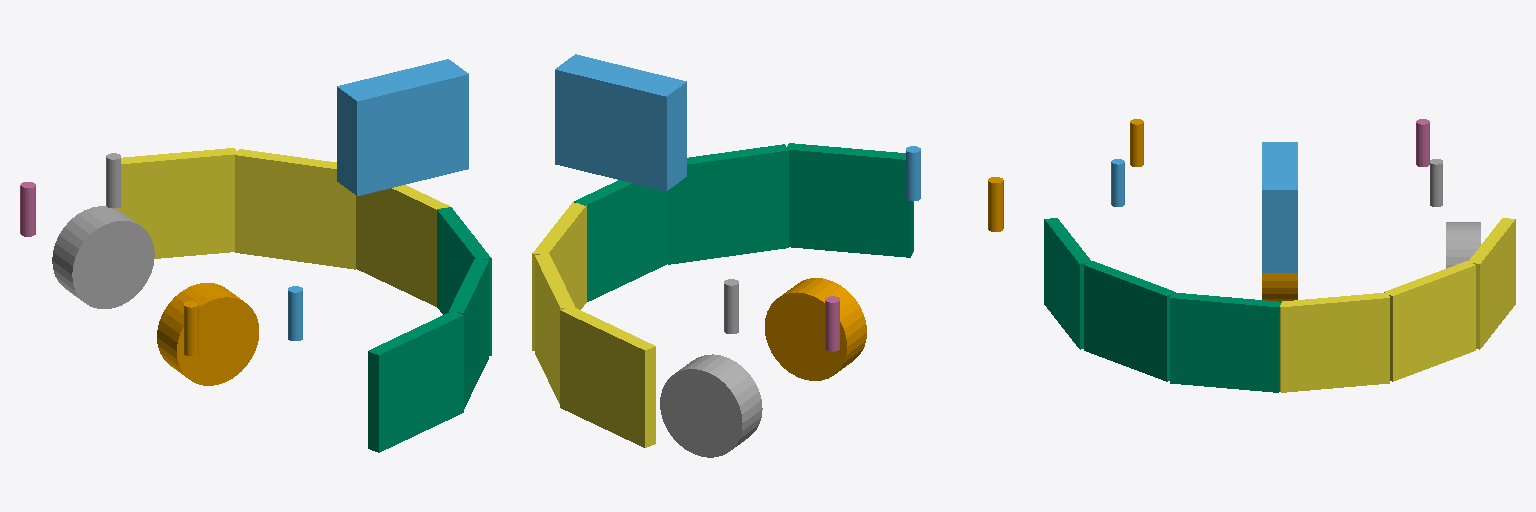
robot.urdf — [local-path]/ROS2-Project/src/my_create_simulation/resource/MyCr:
<?xml version="1.0"?>
<robot name="/home/jordenhuang/ROS2-Project/src/my_create_simulation/resource/MyCreate_kinect_.urdf" xmlns:xacro="http://ros.org/wiki/xacro">
  <webots>
    <plugin type="my_create_simulation.my_create_driver_kinect.MyCreateDriverKinect"/>
  </webots>
  <!-- ======================= BASE LINK ======================= -->
  <link name="base_link"/>

  <!-- ======================= KINECT CAMERA ======================= -->
  <!-- This is the physical body of the Kinect camera -->
  <link name="Kinect">
    <visual>
      <origin xyz="0 0 0" rpy="0 0 0"/>
      <geometry>
        <box size="0.084 0.027 0.068"/>
      </geometry>
    </visual>
    <collision>
      <origin xyz="0 0 0" rpy="0 0 0"/>
      <geometry>
        <box size="0.084 0.027 0.068"/>
      </geometry>
    </collision>
  </link>

  <!-- This joint mounts the camera body onto the robot's base link -->
  <joint name="base_to_kinect_joint" type="fixed">
    <parent link="base_link"/>
    <child link="Kinect"/>
    <!-- Position the camera 14cm forward and 10cm up from the base_link origin -->
    <origin xyz="0.14 0 0.10" rpy="0 0 0"/>
    <!-- <origin xyz="0.14 0 0.10" rpy="0 0.261799 0"/> -->
    <!-- <origin xyz="0.14 0 0.10" rpy="0 0.174532 0"/> -->
  </joint>


  <!-- CORRECTED: RGB Optical Frame -->
  <!-- The link for the optical center of the RGB camera -->
  <link name="camera_rgb_frame"/>

  <!-- This joint connects the optical frame to the camera BODY -->
  <joint name="kinect_to_camera_rgb_joint" type="fixed">
    <parent link="Kinect"/> <!-- CORRECTED: Parent is now the camera body -->
    <child link="camera_rgb_frame"/>
    <!-- The origin is now relative to the Kinect link.
         The standard ROS optical rotation is applied here. -->
    <!-- <origin xyz="0 0 0" rpy="0.0 -0.261799 0.0"/> -->
    <origin xyz="0 0 0" rpy="0 0 0"/>
  </joint>

  <!-- camera rgb optical frame -->
  <link name="camera_rgb_optical_frame">
  </link>
  <joint name="camera_rgb_to_camera_rgb_optical_joint" type="fixed">
    <parent link="camera_rgb_frame"/>
    <child link="camera_rgb_optical_frame"/>
    <origin xyz="0 0 0" rpy="-1.570796 0 -1.570796"/>
  </joint>


  <!-- CORRECTED: Depth Optical Frame -->
  <!-- The link for the optical center of the Depth camera -->
  <link name="camera_depth_frame"/>

  <!-- This joint connects the depth optical frame to the camera BODY -->
  <joint name="kinect_to_camera_depth_joint" type="fixed">
    <parent link="Kinect"/> <!-- CORRECTED: Parent is now the camera body -->
    <child link="camera_depth_frame"/>
    <!-- Assume the depth sensor is 2.5cm to the left of the RGB sensor (relative to Kinect body) -->
    <!-- <origin xyz="0 -0.025 0" rpy="-1.570796 0 -1.570796"/> -->
    <origin xyz="0 0 0" rpy="0 0 0"/>
    <!-- <origin xyz="0 0 0" rpy="0.0 -0.261799 0.0"/> -->
  </joint>

  <!-- camera rgb optical frame -->
  <link name="camera_depth_optical_frame">
  </link>
  <joint name="camera_depth_to_camera_depth_optical_joint" type="fixed">
    <parent link="camera_depth_frame"/>
    <child link="camera_depth_optical_frame"/>
    <origin xyz="0 0 0" rpy="-1.570796 0 -1.570796"/>
  </joint>
  <!-- End camera thingy -->

  <link name="stand_left_back_1">
    <visual>
      <geometry>
        <cylinder radius="0.005" length="0.035"/>
      </geometry>
    </visual>
    <collision>
      <geometry>
        <cylinder radius="0.005" length="0.035"/>
      </geometry>
    </collision>
  </link>
  <joint name="base_link_stand_left_back_1_joint" type="fixed">
    <parent link="base_link"/>
    <child link="stand_left_back_1"/>
    <origin xyz="-0.08 0.106 0.05" rpy="0 0 0"/>
  </joint>
  <link name="stand_left_front_1">
    <visual>
      <geometry>
        <cylinder radius="0.005" length="0.035"/>
      </geometry>
    </visual>
    <collision>
      <geometry>
        <cylinder radius="0.005" length="0.035"/>
      </geometry>
    </collision>
  </link>
  <joint name="base_link_stand_left_front_1_joint" type="fixed">
    <parent link="base_link"/>
    <child link="stand_left_front_1"/>
    <origin xyz="-0.01 0.116 0.05" rpy="0 0 0"/>
  </joint>
  <link name="stand_right_back_1">
    <visual>
      <geometry>
        <cylinder radius="0.005" length="0.035"/>
      </geometry>
    </visual>
    <collision>
      <geometry>
        <cylinder radius="0.005" length="0.035"/>
      </geometry>
    </collision>
  </link>
  <joint name="base_link_stand_right_back_1_joint" type="fixed">
    <parent link="base_link"/>
    <child link="stand_right_back_1"/>
    <origin xyz="-0.08 -0.106 0.05" rpy="0 0 0"/>
  </joint>
  <link name="stand_right_front_1">
    <visual>
      <geometry>
        <cylinder radius="0.005" length="0.035"/>
      </geometry>
    </visual>
    <collision>
      <geometry>
        <cylinder radius="0.005" length="0.035"/>
      </geometry>
    </collision>
  </link>
  <joint name="base_link_stand_right_front_1_joint" type="fixed">
    <parent link="base_link"/>
    <child link="stand_right_front_1"/>
    <origin xyz="-0.01 -0.12 0.05" rpy="0 0 0"/>
  </joint>
  <link name="plate_1">
  </link>
  <joint name="base_link_plate_1_joint" type="fixed">
    <parent link="base_link"/>
    <child link="plate_1"/>
    <origin xyz="0 0 0.07" rpy="0 0 0"/>
  </joint>
  <link name="cliff_left">
  </link>
  <joint name="base_link_cliff_left_joint" type="fixed">
    <parent link="base_link"/>
    <child link="cliff_left"/>
    <origin xyz="0.07 0.15 0" rpy="-1.876967 1.570787 1.264616"/>
  </joint>
  <link name="cliff_front_left">
  </link>
  <joint name="base_link_cliff_front_left_joint" type="fixed">
    <parent link="base_link"/>
    <child link="cliff_front_left"/>
    <origin xyz="0.15 0.04 0" rpy="-1.876967 1.570787 1.264616"/>
  </joint>
  <link name="cliff_front_right">
  </link>
  <joint name="base_link_cliff_front_right_joint" type="fixed">
    <parent link="base_link"/>
    <child link="cliff_front_right"/>
    <origin xyz="0.15 -0.04 0" rpy="-1.876967 1.570787 1.264616"/>
  </joint>
  <link name="cliff_right">
  </link>
  <joint name="base_link_cliff_right_joint" type="fixed">
    <parent link="base_link"/>
    <child link="cliff_right"/>
    <origin xyz="0.07 -0.15 0" rpy="-1.876967 1.570787 1.264616"/>
  </joint>
  <link name="led_step">
  </link>
  <joint name="base_link_led_step_joint" type="fixed">
    <parent link="base_link"/>
    <child link="led_step"/>
    <origin xyz="0.0189 -0.0581 0.0349" rpy="0 0 0"/>
  </joint>
  <link name="led_play">
  </link>
  <joint name="base_link_led_play_joint" type="fixed">
    <parent link="base_link"/>
    <child link="led_play"/>
    <origin xyz="0.0193 -0.0132 0.0349" rpy="0 0 0"/>
  </joint>
  <link name="led_on">
  </link>
  <joint name="base_link_led_on_joint" type="fixed">
    <parent link="base_link"/>
    <child link="led_on"/>
    <origin xyz="0.0202 0.0617 0.0349" rpy="0 0 0"/>
  </joint>
  <link name="bumper_right">
    <visual>
      <origin xyz="-0.078042 0 -0.148208" rpy="0 0.523599 0"/>
      <geometry>
        <box size="0.082811 0.07 0.01"/>
      </geometry>
    </visual>
    <collision>
      <origin xyz="-0.078042 0 -0.148208" rpy="0 0.523599 0"/>
      <geometry>
        <box size="0.082811 0.07 0.01"/>
      </geometry>
    </collision>
    <visual>
      <origin xyz="0 0 -0.1675" rpy="0 0 0"/>
      <geometry>
        <box size="0.082811 0.07 0.01"/>
      </geometry>
    </visual>
    <collision>
      <origin xyz="0 0 -0.1675" rpy="0 0 0"/>
      <geometry>
        <box size="0.082811 0.07 0.01"/>
      </geometry>
    </collision>
    <visual>
      <origin xyz="0.078042 0 -0.148208" rpy="0 -0.523599 0"/>
      <geometry>
        <box size="0.082811 0.07 0.01"/>
      </geometry>
    </visual>
    <collision>
      <origin xyz="0.078042 0 -0.148208" rpy="0 -0.523599 0"/>
      <geometry>
        <box size="0.082811 0.07 0.01"/>
      </geometry>
    </collision>
  </link>
  <joint name="base_link_bumper_right_joint" type="fixed">
    <parent link="base_link"/>
    <child link="bumper_right"/>
    <origin xyz="0 0 0" rpy="1.570792 0.000011 -2.297729"/>
  </joint>
  <link name="bumper_left">
    <visual>
      <origin xyz="-0.078042 0 -0.148208" rpy="0 0.523599 0"/>
      <geometry>
        <box size="0.082811 0.07 0.01"/>
      </geometry>
    </visual>
    <collision>
      <origin xyz="-0.078042 0 -0.148208" rpy="0 0.523599 0"/>
      <geometry>
        <box size="0.082811 0.07 0.01"/>
      </geometry>
    </collision>
    <visual>
      <origin xyz="0 0 -0.1675" rpy="0 0 0"/>
      <geometry>
        <box size="0.082811 0.07 0.01"/>
      </geometry>
    </visual>
    <collision>
      <origin xyz="0 0 -0.1675" rpy="0 0 0"/>
      <geometry>
        <box size="0.082811 0.07 0.01"/>
      </geometry>
    </collision>
    <visual>
      <origin xyz="0.078042 0 -0.148208" rpy="0 -0.523599 0"/>
      <geometry>
        <box size="0.082811 0.07 0.01"/>
      </geometry>
    </visual>
    <collision>
      <origin xyz="0.078042 0 -0.148208" rpy="0 -0.523599 0"/>
      <geometry>
        <box size="0.082811 0.07 0.01"/>
      </geometry>
    </collision>
  </link>
  <joint name="base_link_bumper_left_joint" type="fixed">
    <parent link="base_link"/>
    <child link="bumper_left"/>
    <origin xyz="0 0 0" rpy="1.570806 0.000006 -0.843867"/>
  </joint>
  <link name="receiver">
  </link>
  <joint name="base_link_receiver_joint" type="fixed">
    <parent link="base_link"/>
    <child link="receiver"/>
    <origin xyz="0.152 0 0.037" rpy="0 0 0"/>
  </joint>
  <link name="front wheel">
  </link>
  <joint name="base_link_front wheel_joint" type="fixed">
    <parent link="base_link"/>
    <child link="front wheel"/>
    <origin xyz="0.129 0 -0.035" rpy="0 0 0"/>
  </joint>
  <link name="rear wheel">
  </link>
  <joint name="base_link_rear wheel_joint" type="fixed">
    <parent link="base_link"/>
    <child link="rear wheel"/>
    <origin xyz="-0.1315 0 -0.0305" rpy="0 0 0"/>
  </joint>
  <joint name="left wheel motor" type="continuous">
    <parent link="base_link"/>
    <child link="left wheel"/>
    <axis xyz="0 1 0"/>
    <limit effort="10" velocity="16.129"/>
    <origin xyz="-0.0062 0 -0.014" rpy="0 0 0"/>
  </joint>
  <link name="left wheel">
    <visual>
      <origin xyz="0 0.1359 0" rpy="1.5708 0 0"/>
      <geometry>
        <cylinder radius="0.031" length="0.026"/>
      </geometry>
    </visual>
    <collision>
      <origin xyz="0 0.1359 0" rpy="1.5708 0 0"/>
      <geometry>
        <cylinder radius="0.031" length="0.026"/>
      </geometry>
    </collision>
  </link>
  <joint name="right wheel motor" type="continuous">
    <parent link="base_link"/>
    <child link="right wheel"/>
    <axis xyz="0 1 0"/>
    <limit effort="10" velocity="16.129"/>
    <origin xyz="-0.0062 0.1359 -0.014" rpy="0 0 0"/>
  </joint>
  <link name="right wheel">
    <visual>
      <origin xyz="0 -0.1359 0" rpy="1.5708 0 0"/>
      <geometry>
        <cylinder radius="0.031" length="0.026"/>
      </geometry>
    </visual>
    <collision>
      <origin xyz="0 -0.1359 0" rpy="1.5708 0 0"/>
      <geometry>
        <cylinder radius="0.031" length="0.026"/>
      </geometry>
    </collision>
  </link>
</robot>

--- Render facts (derived) ---
The picture shows the robot from 3 angles, left to right: view 1: azimuth 30°, elevation 25°; view 2: azimuth 150°, elevation 25°; view 3: azimuth 270°, elevation 25°; orthographic projection.
Model [local-path]/ROS2-Project/src/my_create_simulation/resource/MyCr with 25 links and 24 joints (2 continuous, 22 fixed), rooted at base_link, posed every joint at zero.
Links seen in each view (by area): view 1: bumper_left, bumper_right, Kinect, left wheel, right wheel, stand_left_back_1, stand_right_back_1, stand_right_front_1, stand_left_front_1; view 2: bumper_right, bumper_left, Kinect, left wheel, right wheel, stand_right_back_1, stand_left_back_1, stand_left_front_1, stand_right_front_1; view 3: bumper_right, bumper_left, Kinect, left wheel, right wheel, stand_left_back_1, stand_right_back_1, stand_right_front_1, stand_left_front_1.
Link boxes in pixels (x1,y1,x2,y2): bumper_left: [116, 148, 449, 306]; bumper_right: [368, 207, 491, 452]; Kinect: [337, 59, 468, 195]; left wheel: [52, 206, 154, 308]; right wheel: [157, 283, 258, 385]; stand_left_back_1: [20, 182, 35, 236]; stand_right_back_1: [184, 301, 198, 355]; stand_right_front_1: [288, 286, 302, 340]; stand_left_front_1: [106, 153, 120, 208]; bumper_right: [574, 143, 913, 301]; bumper_left: [532, 202, 655, 447]; Kinect: [555, 54, 686, 191]; left wheel: [660, 354, 762, 457]; right wheel: [765, 278, 866, 380]; stand_right_back_1: [988, 177, 1003, 231]; stand_left_back_1: [825, 296, 839, 351]; stand_left_front_1: [724, 279, 738, 333]; stand_right_front_1: [906, 146, 920, 201]; bumper_right: [1044, 218, 1281, 392]; bumper_left: [1280, 218, 1515, 392]; Kinect: [1262, 142, 1297, 272]; left wheel: [1446, 222, 1480, 268]; right wheel: [1262, 273, 1297, 301]; stand_left_back_1: [1416, 119, 1429, 166]; stand_right_back_1: [1130, 119, 1143, 166]; stand_right_front_1: [1111, 159, 1124, 206]; stand_left_front_1: [1430, 159, 1442, 206].
Bounding box of the posed robot: 0.267 × 0.3492 × 0.179 m (x, y, z).
Geometry: primitives only (box / cylinder / sphere), no mesh files.
